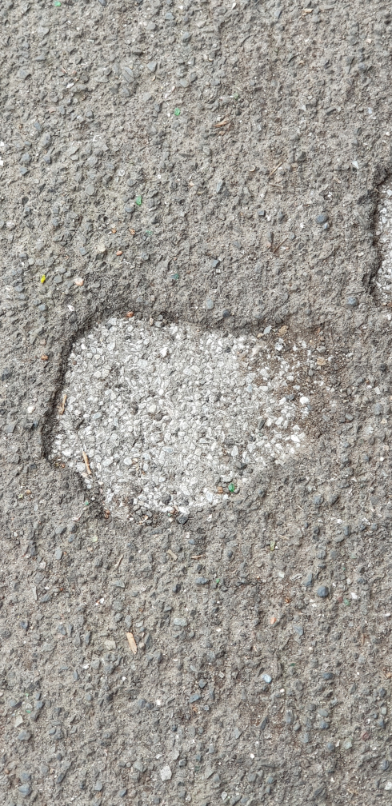pothole: (35, 293, 340, 535)
